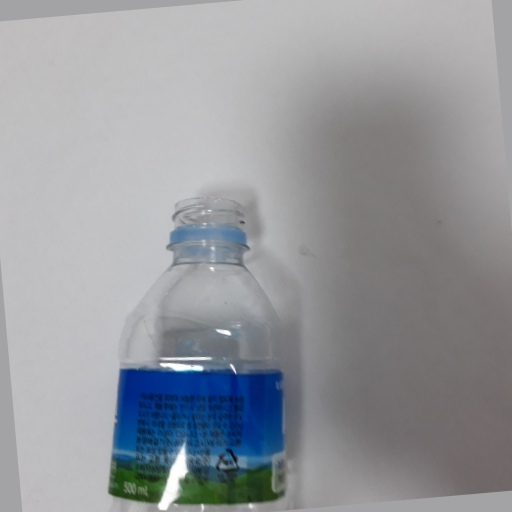Plastic_0: (104, 192, 294, 512)
